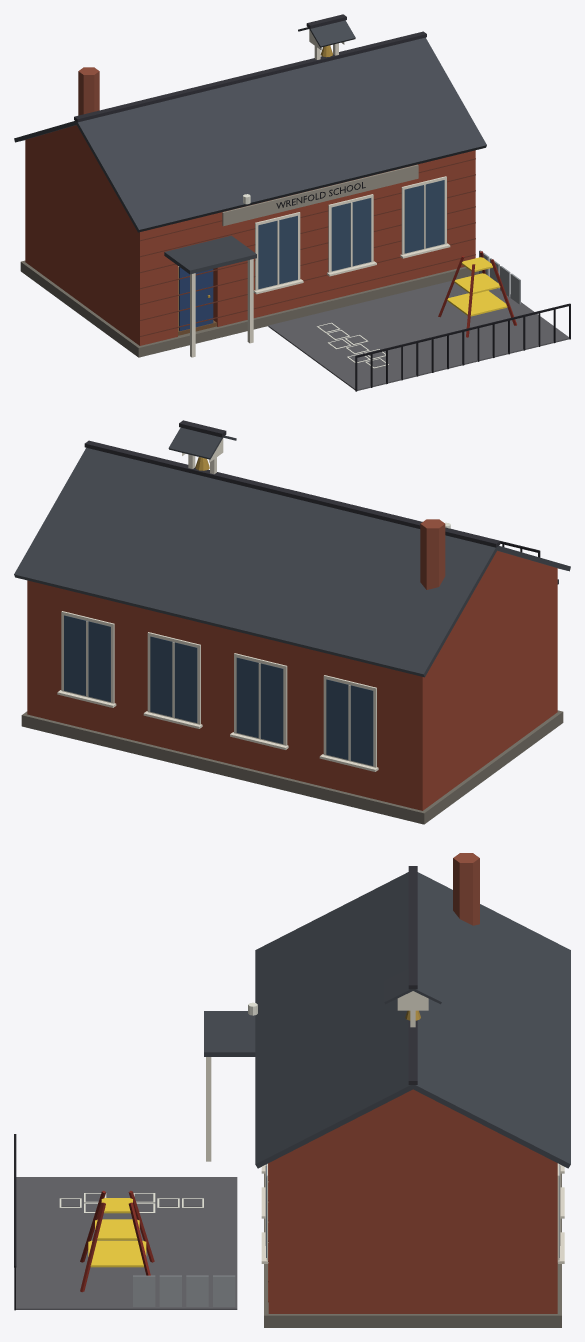
The model's file is village.school.glb.
3 renders of one model, top to bottom at view 1: azimuth 30°, elevation 25°; view 2: azimuth 150°, elevation 25°; view 3: azimuth 270°, elevation 25°, orthographic. The views are drawn at different scales.
Parts seen in each view (by area): view 1: roof-f, w-front-r, yard, w-side-1, plinth, w-front-l, roof-gable-1, lintel, win-f3.8-glass, win-f1.4-glass, win-f-1.0-glass, roof-ridge (+15 smaller); view 2: roof-b, w-back, w-side-1, plinth, roof-gable-1, win-b-3.5-glass, win-b-1.0-glass, win-b1.4-glass, win-b3.8-glass, roof-ridge, chimney, cote-roof-b (+5 smaller); view 3: w-side1, roof-f, roof-b, yard, roof-gable1, plinth, porch-roof, chimney, w-back, w-front-r, roof-ridge, climb-bar0.6 (+8 smaller).
Boxes of the visible parts, box(x1,y1,x2,y2) form: roof-f: box(75, 37, 486, 232); w-front-r: box(213, 150, 475, 326); yard: box(268, 281, 569, 390); w-side-1: box(29, 144, 135, 342); plinth: box(20, 260, 478, 357); w-front-l: box(135, 223, 177, 345); roof-gable-1: box(25, 125, 139, 233); lintel: box(222, 164, 418, 226); win-f3.8-glass: box(404, 180, 444, 253); win-f1.4-glass: box(331, 198, 371, 271); win-f-1.0-glass: box(258, 215, 297, 289); roof-ridge: box(74, 31, 426, 122); roof-b: box(14, 448, 498, 677); w-back: box(27, 580, 427, 810); w-side-1: box(428, 585, 552, 806); plinth: box(21, 710, 563, 824); roof-gable-1: box(422, 550, 557, 678); win-b-3.5-glass: box(326, 679, 373, 765); win-b-1.0-glass: box(236, 657, 283, 743); win-b1.4-glass: box(150, 636, 197, 722); win-b3.8-glass: box(64, 615, 110, 701); roof-ridge: box(84, 440, 500, 547); chimney: box(420, 519, 445, 589); cote-roof-b: box(168, 427, 223, 459); w-side1: box(279, 1160, 546, 1313); roof-f: box(255, 872, 415, 1168); roof-b: box(411, 872, 570, 1168); yard: box(16, 1177, 237, 1309); roof-gable1: box(268, 1089, 557, 1172); plinth: box(264, 1173, 561, 1327); porch-roof: box(204, 1011, 255, 1056); chimney: box(453, 853, 479, 925); w-back: box(546, 1160, 557, 1313); w-front-r: box(268, 1161, 279, 1313); roof-ridge: box(408, 866, 417, 1084); climb-bar0.6: box(88, 1240, 146, 1267).
Bounding box in the file's own units: 11.45 × 7.33 × 12.52.
